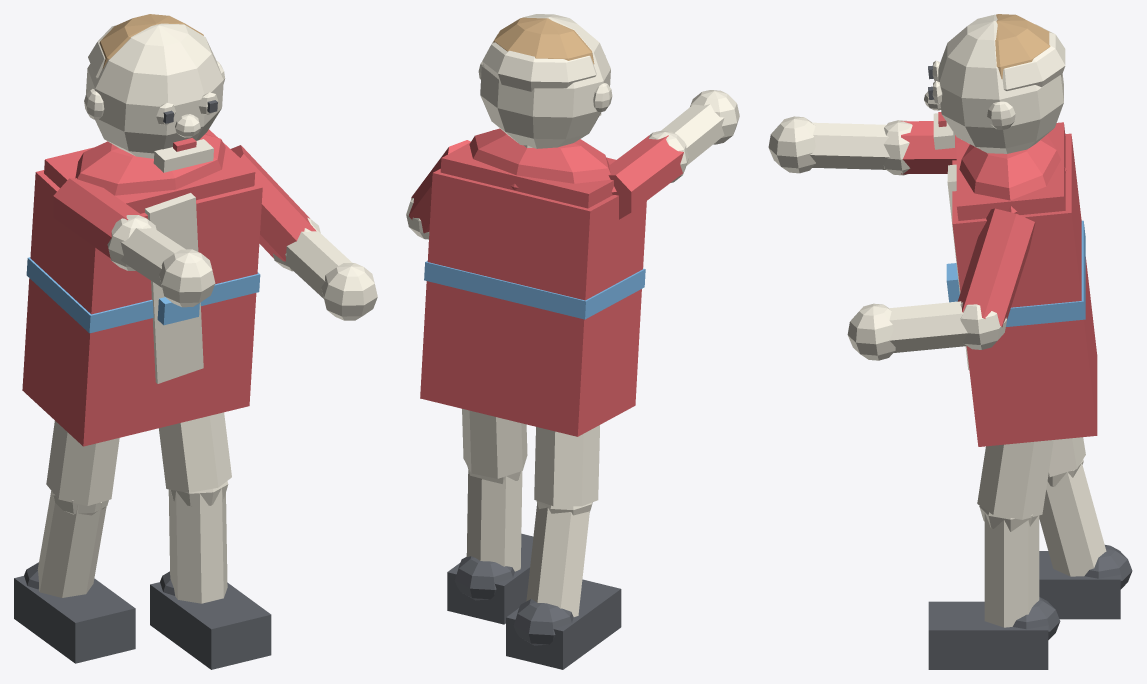
File: lawn-mowing-simulator-kit-grumpy-neighbour-pointing-7504accf__27348.glb
The picture shows the model from 3 angles, left to right: view 1: azimuth 30°, elevation 25°; view 2: azimuth 150°, elevation 25°; view 3: azimuth 270°, elevation 25°; orthographic projection. The views are drawn at different scales.
Parts seen in each view (by area): view 1: grumpy-neighbour-pointing; view 2: grumpy-neighbour-pointing; view 3: grumpy-neighbour-pointing.
Part boxes in pixels (left/top/right/bottom): grumpy-neighbour-pointing: left=14, top=14, right=377, bottom=669; grumpy-neighbour-pointing: left=406, top=14, right=739, bottom=669; grumpy-neighbour-pointing: left=768, top=14, right=1132, bottom=669.
Bounding box in the file's own units: 0.7177 × 1.69 × 0.9123.
